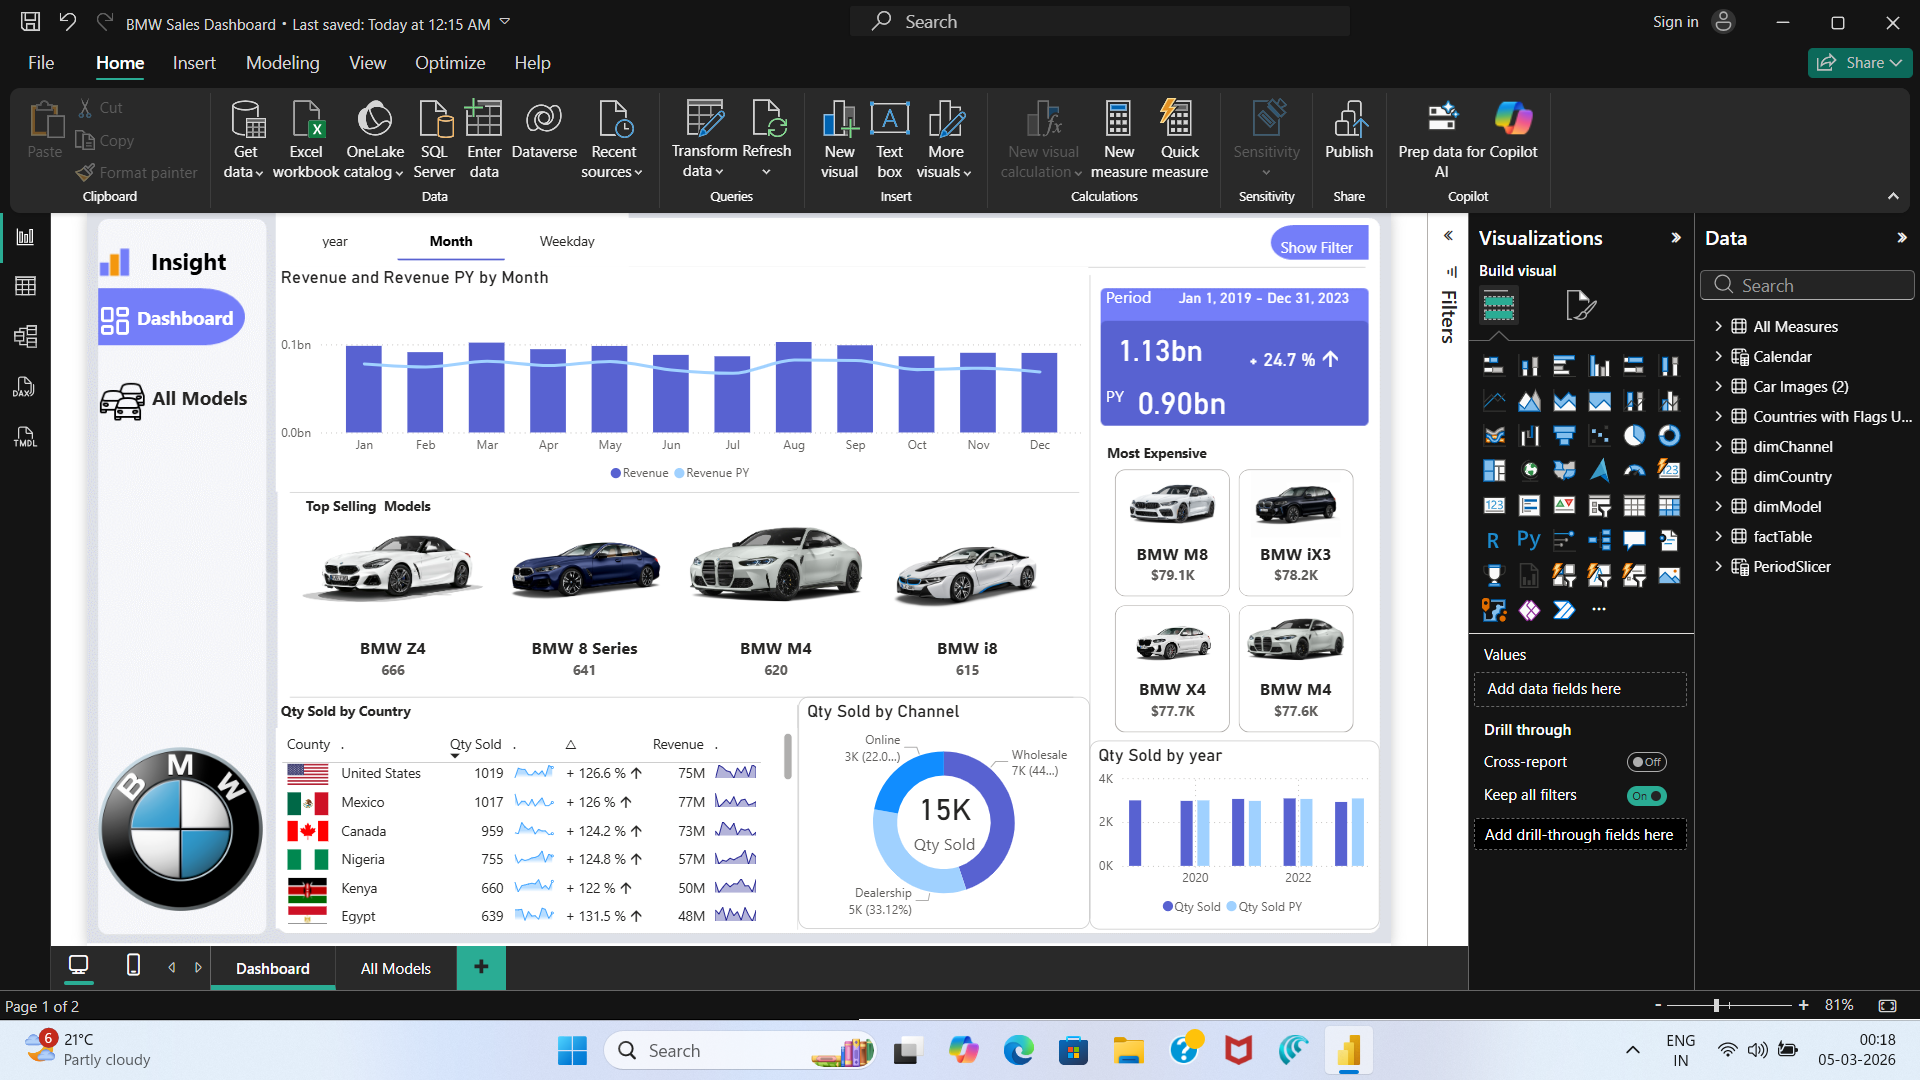

The page's visual inventory and layout, read from the dashboard file:
{"tool":"powerbi","page":{"name":"Dashboard","canvas":[1280,720],"ordinal":0},"visuals":[{"type":"lineStackedColumnComboChart","fields":{"Category":["Calendar.Month"],"Y":["All Measures.Revenue"],"Y2":["All Measures.Revenue PY"]},"box":[185.3,52.8,797.6,220.9],"z":0},{"type":"advancedSlicerVisual","fields":{"Values":["PeriodSlicer.PeriodSlicer"]},"box":[185.3,0,346,52.8],"z":1000},{"type":"card","fields":{"Values":["All Measures.Revenue"]},"box":[995.4,102.5,117.1,60.2],"z":2000},{"type":"card","fields":{"Values":["All Measures.Revenue PY"]},"box":[1024.7,162.7,100.8,43.9],"z":3000},{"type":"textbox","box":[995.4,162.7,29.3,43.9],"z":4000},{"type":"card","fields":{"Values":["All Measures.Revenue Variance % Arrow"]},"box":[1125.6,126.9,115.5,35.8],"z":5000},{"type":"card","fields":{"Values":["All Measures.Selected Period"]},"box":[1054,66.7,203.3,35.8],"z":6000},{"type":"textbox","box":[995.4,66.7,79.7,35.8],"z":7000},{"type":"advancedSlicerVisual","fields":{"Values":["dimModel.Model"]},"box":[185.3,273.3,797.3,201.3],"z":8000},{"type":"textbox","box":[209.8,273.3,149.6,30.9],"z":9000},{"type":"advancedSlicerVisual","fields":{"Values":["dimModel.Model"]},"box":[984.1,246.6,284.7,269.9],"z":10000},{"type":"textbox","box":[996.1,221.1,117.1,34.2],"z":11000},{"type":"clusteredColumnChart","title":"Qty Sold by year","fields":{"Y":["All Measures.Qty Sold","All Measures.Qty Sold PY"],"Category":["Calendar.year"]},"box":[984.1,517.8,284.7,185.3],"z":12000},{"type":"donutChart","fields":{"Y":["All Measures.Qty Sold"],"Category":["dimChannel.Channel"]},"box":[697.8,475,286.3,227.7],"z":13000},{"type":"card","fields":{"Values":["All Measures.Qty Sold"]},"box":[771,517.2,143.1,154.5],"z":14000},{"type":"tableEx","fields":{"Values":["dimCountry.Countries with Flags URL.Flag","dimCountry.Country","All Measures.Qty Sold","All Measures.Qty Sold Sparkline","All Measures.Qty Sold Variance % Arrow","All Measures.Revenue","All Measures.Revenue Sparkline"]},"box":[185.4,505.9,512.4,196.8],"z":15000},{"type":"textbox","box":[185.4,475,216.3,30.9],"z":16000},{"type":"textbox","box":[43.9,84.6,107.4,42.3],"z":17000},{"type":"image","box":[11.4,84.6,32.5,42.3],"z":18000},{"type":"textbox","box":[58.6,162.7,113.9,43.9],"z":19000},{"type":"actionButton","box":[11.4,162.7,161,40.7],"z":20000},{"type":"image","box":[11.4,162.7,47.2,43.9],"z":21000},{"type":"actionButton","box":[1156.9,13.7,100.5,39.7],"z":23000},{"type":"actionButton","box":[58.3,26.1,114.2,41],"z":24000},{"type":"image","box":[11.2,26.1,32.3,42.2],"z":25000},{"type":"image","box":[11.2,506.2,161.2,196.2],"z":26000}]}

Visuals, with their boxes on the page's 1280x720 design canvas (x1, y1, x2, y2). These are canvas units, not pixel positions in the 1920x1080 screenshot, which may show the page scaled, cropped or inside an application window:
lineStackedColumnComboChart - Calendar.Month x All Measures.Revenue: 185:53:983:274
advancedSlicerVisual - PeriodSlicer.PeriodSlicer: 185:0:531:53
card - All Measures.Revenue: 995:102:1112:163
card - All Measures.Revenue PY: 1025:163:1126:207
textbox: 995:163:1025:207
card - All Measures.Revenue Variance % Arrow: 1126:127:1241:163
card - All Measures.Selected Period: 1054:67:1257:102
textbox: 995:67:1075:102
advancedSlicerVisual - dimModel.Model: 185:273:983:475
textbox: 210:273:359:304
advancedSlicerVisual - dimModel.Model: 984:247:1269:516
textbox: 996:221:1113:255
"Qty Sold by year" clusteredColumnChart: 984:518:1269:703
donutChart - All Measures.Qty Sold x dimChannel.Channel: 698:475:984:703
card - All Measures.Qty Sold: 771:517:914:672
tableEx - dimCountry.Countries with Flags URL.Flag x dimCountry.Country: 185:506:698:703
textbox: 185:475:402:506
textbox: 44:85:151:127
image: 11:85:44:127
textbox: 59:163:172:207
actionButton: 11:163:172:203
image: 11:163:59:207
actionButton: 1157:14:1257:53
actionButton: 58:26:172:67
image: 11:26:44:68
image: 11:506:172:702
